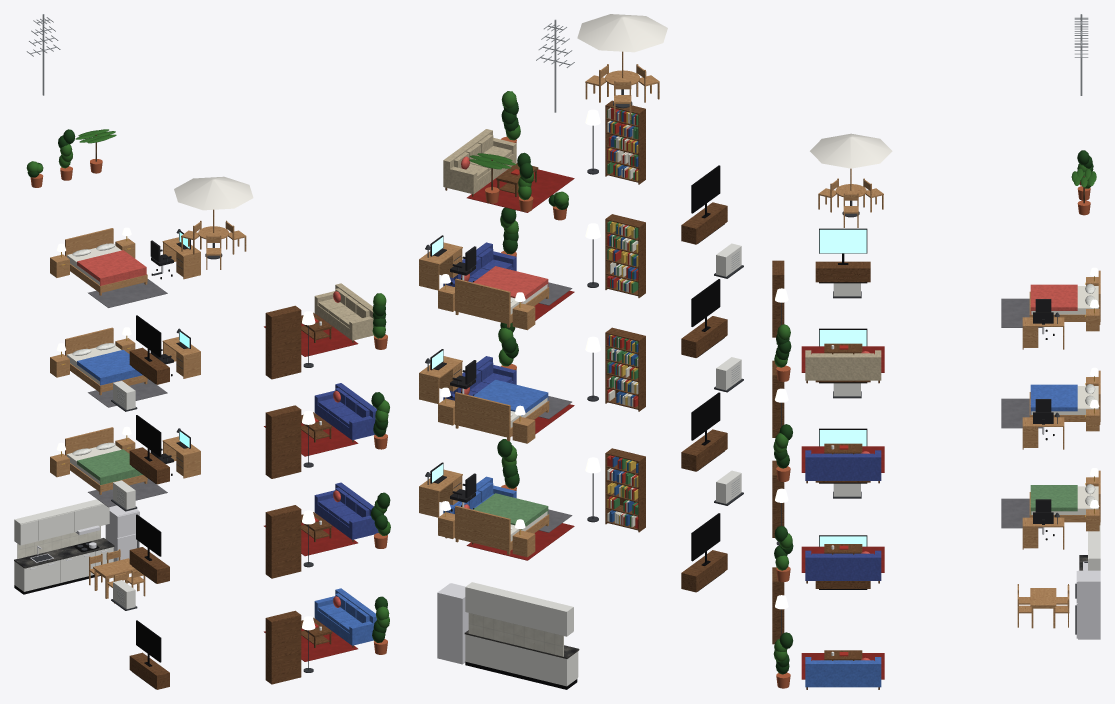
Rendered from i_favela_stack.gltf.
3 views of the same model, side by side, from view 1: azimuth 30°, elevation 25°; view 2: azimuth 150°, elevation 25°; view 3: azimuth 270°, elevation 25° (orthographic). The views are drawn at different scales.
Parts seen in each view (by area): view 1: I_favela_stack; view 2: I_favela_stack; view 3: I_favela_stack.
Boxes of the visible parts, <box> form: I_favela_stack: <box>14,14,390,689</box>; I_favela_stack: <box>419,14,743,689</box>; I_favela_stack: <box>772,14,1100,689</box>.
Size of the model in its own units: 8.06 by 18.5 by 9.52.
35 materials, 14 textured.
